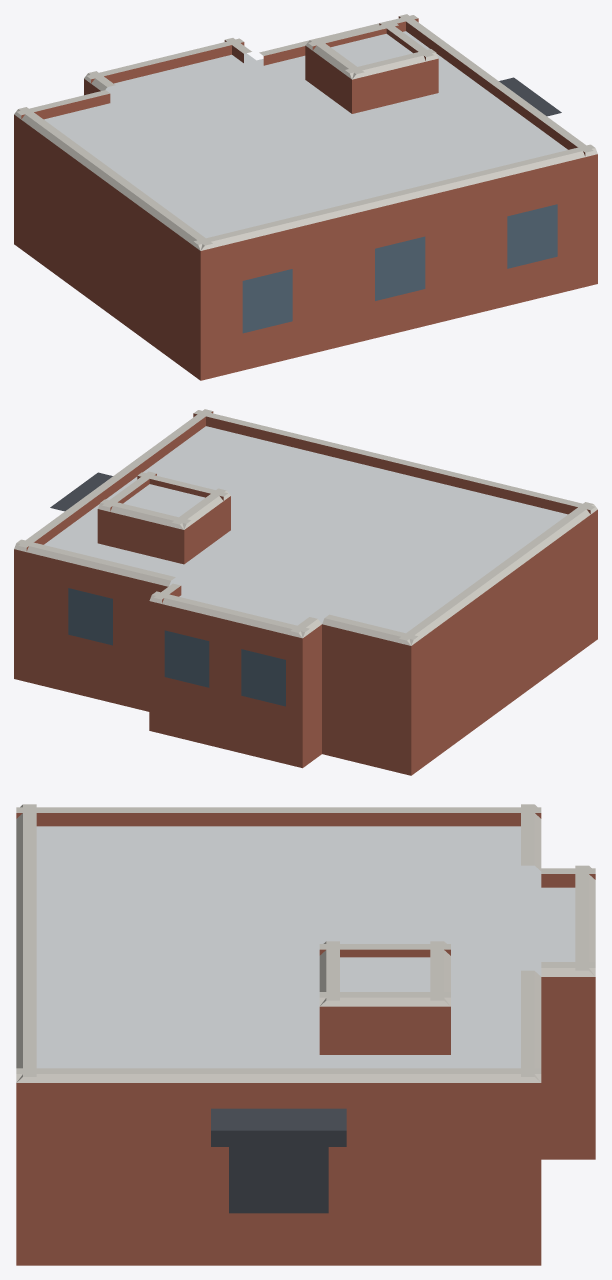
The model's file is clt-cne-generals-office.glb.
3 renders of one model, top to bottom at view 1: azimuth 30°, elevation 25°; view 2: azimuth 150°, elevation 25°; view 3: azimuth 270°, elevation 25°, orthographic. The views are drawn at different scales.
Parts seen in each view (by area): view 1: The General's Office, Camp North End; view 2: The General's Office, Camp North End; view 3: The General's Office, Camp North End.
Part boxes in pixels (x1=…): The General's Office, Camp North End: x1=14, y1=14, x2=597, y2=380; The General's Office, Camp North End: x1=14, y1=409, x2=597, y2=775; The General's Office, Camp North End: x1=16, y1=804, x2=595, y2=1265.
Bounding box in the file's own units: 15.45 × 5.6 × 12.9.
